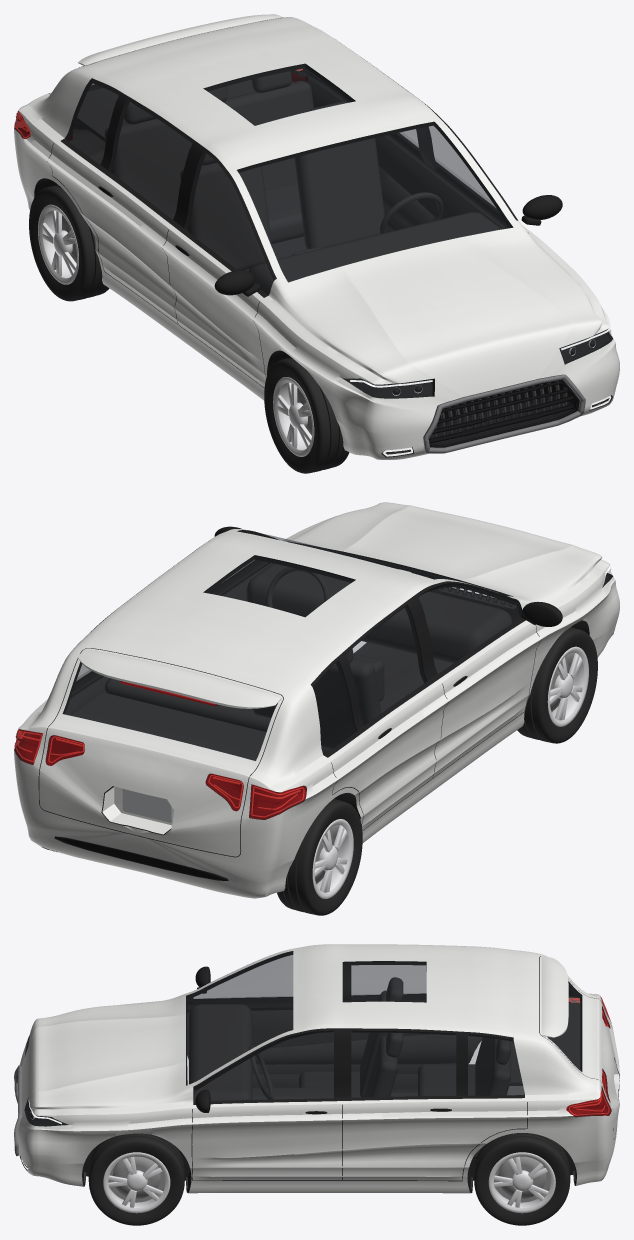
Rendered from hatchback.glb.
3 renders of one model, top to bottom at view 1: azimuth 30°, elevation 25°; view 2: azimuth 150°, elevation 25°; view 3: azimuth 270°, elevation 25°, orthographic. The views are drawn at different scales.
Parts seen in each view (by area): view 1: body, interior, glass_windshield, grille, window_trim, glass_rear_right, glass_front_right, glass_sunroof, tire_front_right, tire_rear_right, glass_quarter_right, rim_front_right (+7 smaller); view 2: body, interior, glass_back, glass_rear_right, window_trim, glass_front_right, glass_sunroof, roof_spoiler, tire_rear_right, tire_front_right, rim_rear_right, rim_front_right (+14 smaller); view 3: body, interior, glass_windshield, glass_rear_left, glass_front_left, window_trim, tire_rear_left, tire_front_left, glass_sunroof, rim_front_left, rim_rear_left, glass_quarter_left (+9 smaller).
Boxes of the visible parts, x1=… form: body: x1=14, y1=17, x2=619, y2=459; interior: x1=76, y1=71, x2=501, y2=295; glass_windshield: x1=237, y1=122, x2=512, y2=281; grille: x1=423, y1=374, x2=585, y2=453; window_trim: x1=61, y1=57, x2=528, y2=297; glass_rear_right: x1=109, y1=100, x2=192, y2=218; glass_front_right: x1=185, y1=151, x2=273, y2=294; glass_sunroof: x1=205, y1=65, x2=354, y2=125; tire_front_right: x1=264, y1=357, x2=349, y2=473; tire_rear_right: x1=29, y1=184, x2=109, y2=301; glass_quarter_right: x1=66, y1=81, x2=118, y2=163; rim_front_right: x1=273, y1=377, x2=314, y2=456; body: x1=14, y1=502, x2=619, y2=898; interior: x1=71, y1=563, x2=512, y2=760; glass_back: x1=63, y1=662, x2=276, y2=760; glass_rear_right: x1=345, y1=605, x2=425, y2=724; window_trim: x1=73, y1=544, x2=525, y2=757; glass_front_right: x1=418, y1=584, x2=521, y2=672; glass_sunroof: x1=205, y1=556, x2=354, y2=616; roof_spoiler: x1=78, y1=649, x2=282, y2=708; tire_rear_right: x1=277, y1=799, x2=362, y2=915; tire_front_right: x1=517, y1=627, x2=597, y2=743; rim_rear_right: x1=312, y1=819, x2=353, y2=898; rim_front_right: x1=547, y1=646, x2=588, y2=726; body: x1=17, y1=944, x2=619, y2=1193; interior: x1=189, y1=977, x2=580, y2=1159; glass_windshield: x1=186, y1=951, x2=292, y2=1084; glass_rear_left: x1=351, y1=1031, x2=455, y2=1097; glass_front_left: x1=193, y1=1031, x2=333, y2=1101; window_trim: x1=193, y1=965, x2=524, y2=1104; tire_rear_left: x1=474, y1=1133, x2=570, y2=1225; tire_front_left: x1=88, y1=1133, x2=184, y2=1225; glass_sunroof: x1=343, y1=962, x2=426, y2=1002; rim_front_left: x1=103, y1=1152, x2=170, y2=1213; rim_rear_left: x1=488, y1=1152, x2=555, y2=1213; glass_quarter_left: x1=468, y1=1035, x2=524, y2=1095.
Size of the model in its own units: 2.26 by 1.45 by 4.18.
